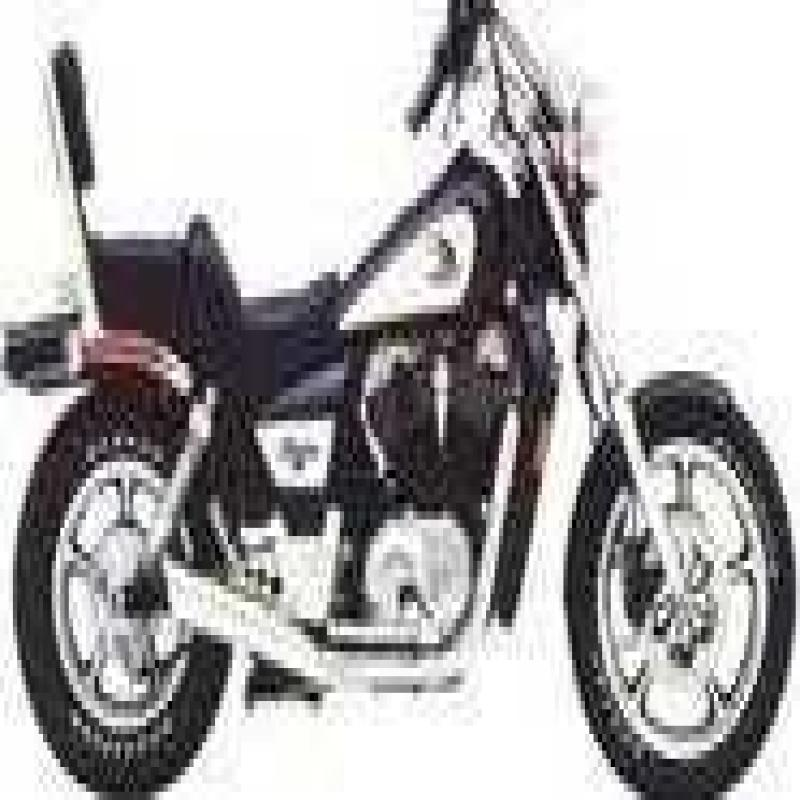bike: (0, 6, 800, 800)
